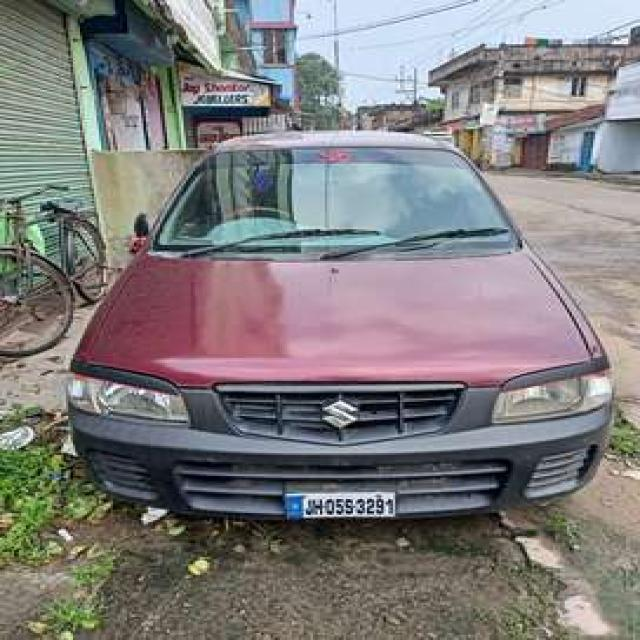Plate: (284, 489, 397, 516)
